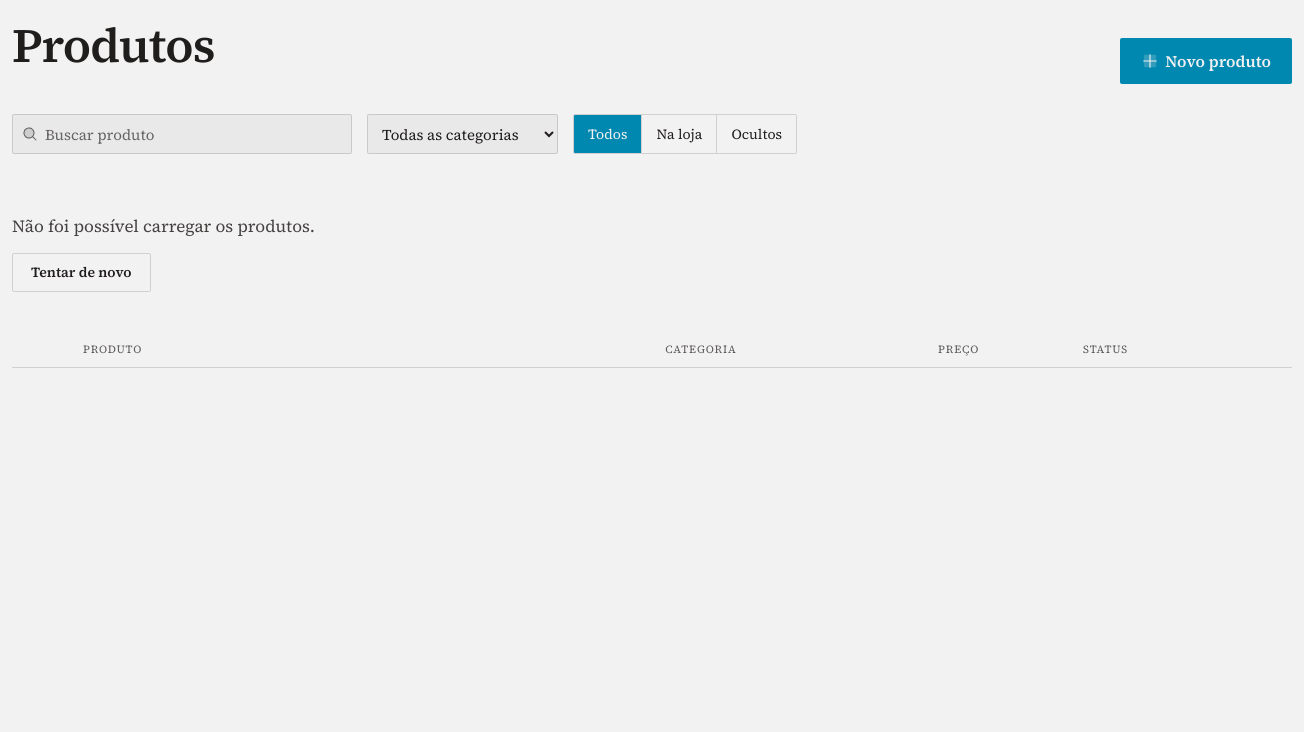
Test case: ProductsPanel › shows an error with retry when the list fails to load
Expected: the text "Não foi possível carregar os produtos." is shown, [12, 214, 315, 238]
Click the button "Tentar de novo" at [81, 272], box [12, 253, 151, 292]
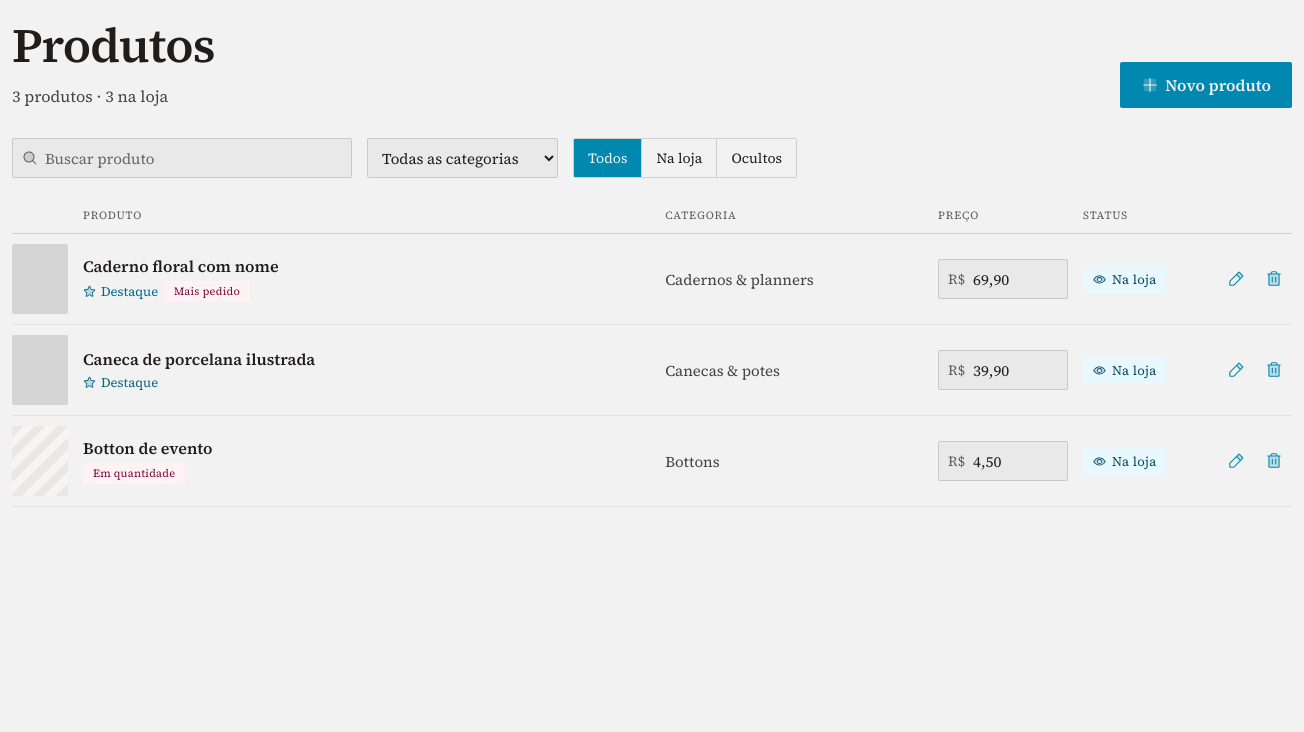
Now the button "Caderno floral com nome" is shown, box [83, 256, 650, 276]
